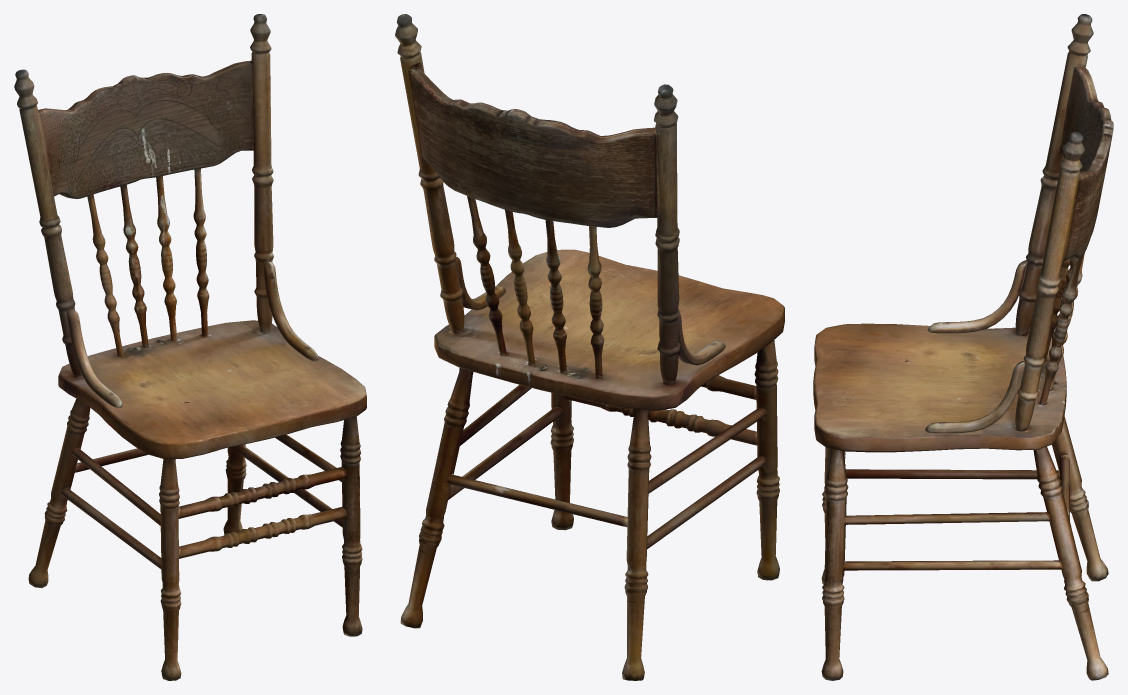
Rendered from wooden_dining_chair.glb.
The picture shows the model from 3 angles, left to right: view 1: azimuth 30°, elevation 25°; view 2: azimuth 150°, elevation 25°; view 3: azimuth 270°, elevation 25°; orthographic projection. The views are drawn at different scales.
Parts seen in each view (by area): view 1: Object_2; view 2: Object_2; view 3: Object_2.
Part boxes in pixels (<box>): Object_2: <box>14,14,366,680</box>; Object_2: <box>395,14,784,680</box>; Object_2: <box>813,14,1113,680</box>.
Size of the model in its own units: 0.4891 by 0.9841 by 0.4826.
1 material, 1 textured.
